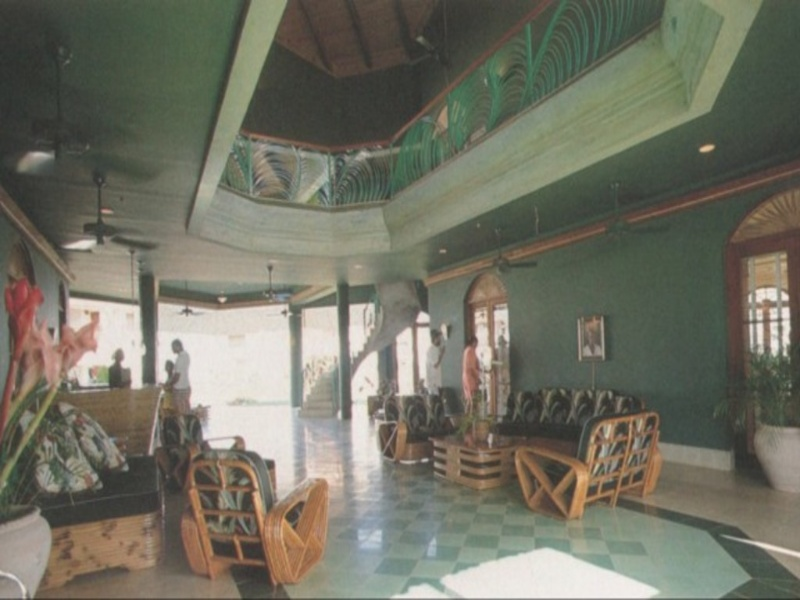couch: (494, 381, 662, 503)
